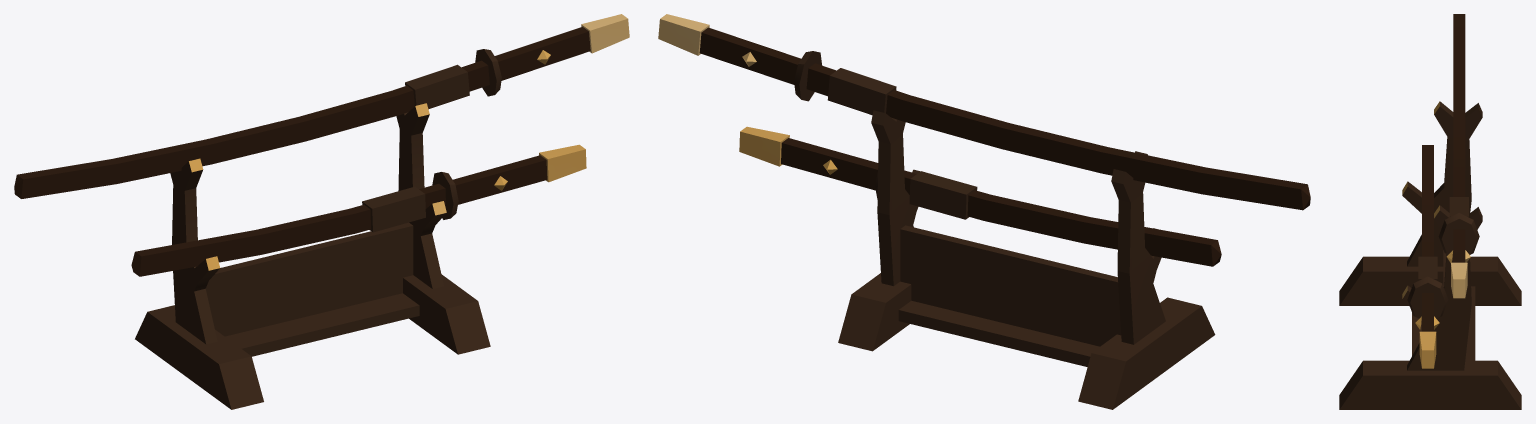
File: Prop_Dojo_SwordHolder.fbx
3 views of the same model, side by side, from view 1: azimuth 30°, elevation 25°; view 2: azimuth 150°, elevation 25°; view 3: azimuth 270°, elevation 25° (orthographic). The views are drawn at different scales.
Visible parts, largest first — view 1: Prop_Dojo_SwordHolder; view 2: Prop_Dojo_SwordHolder; view 3: Prop_Dojo_SwordHolder.
Boxes of the visible parts, left/top/right/bottom form: Prop_Dojo_SwordHolder: left=14, top=14, right=629, bottom=409; Prop_Dojo_SwordHolder: left=658, top=14, right=1310, bottom=409; Prop_Dojo_SwordHolder: left=1339, top=14, right=1521, bottom=409.
Size of the model in its own units: 130 by 48.07 by 35.53.
